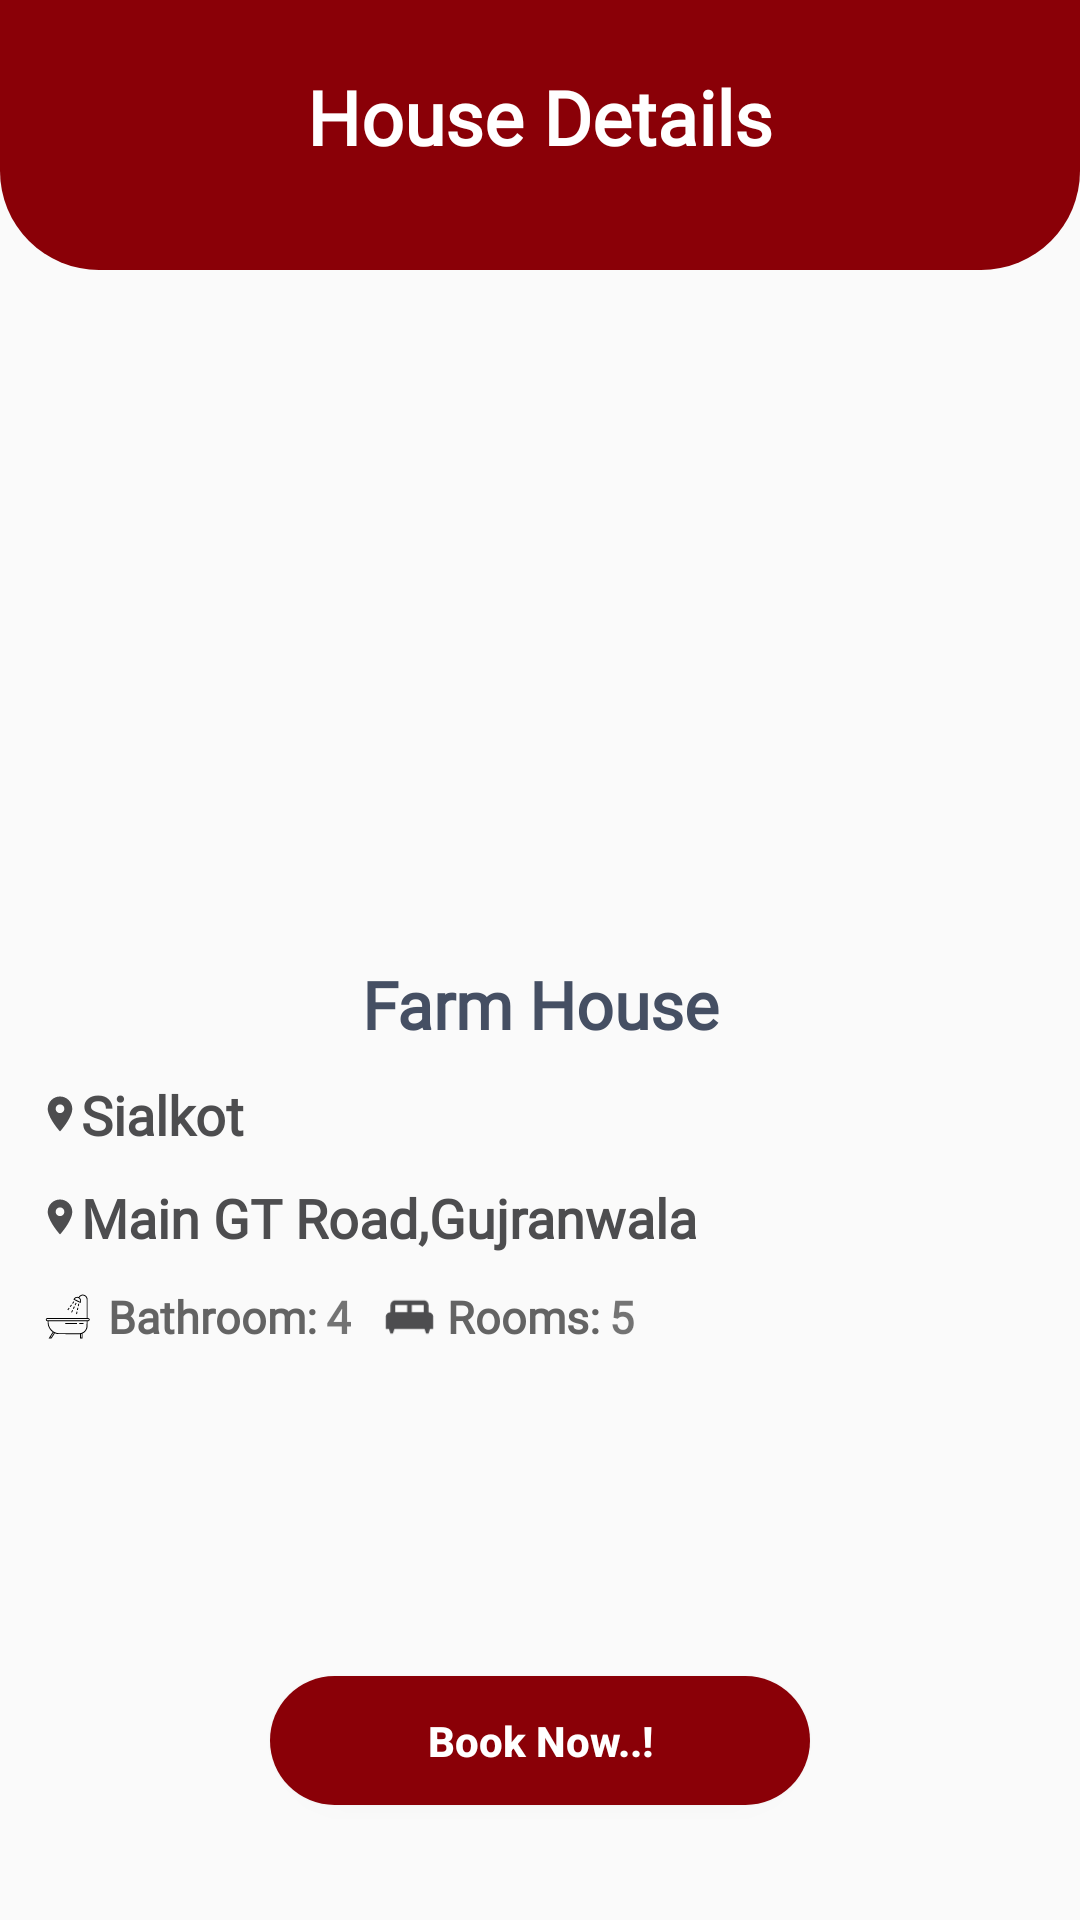

Where icons sit on this 1080x1920 app screen, as box=[x1, y1, x2, y2]:
king bed: box=[385, 1300, 434, 1334]
